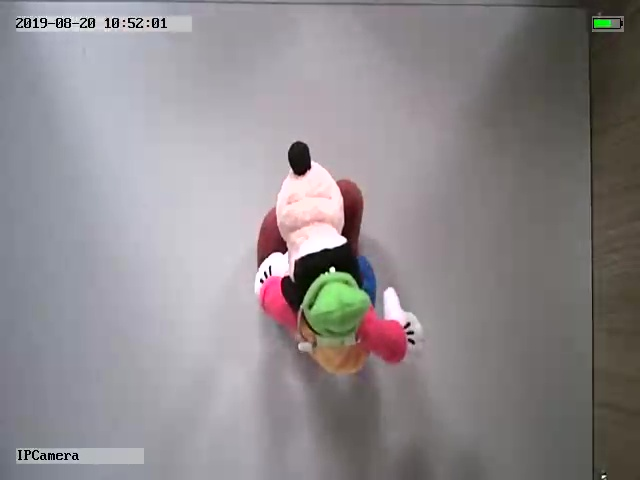goofy: (254, 139, 423, 375)
